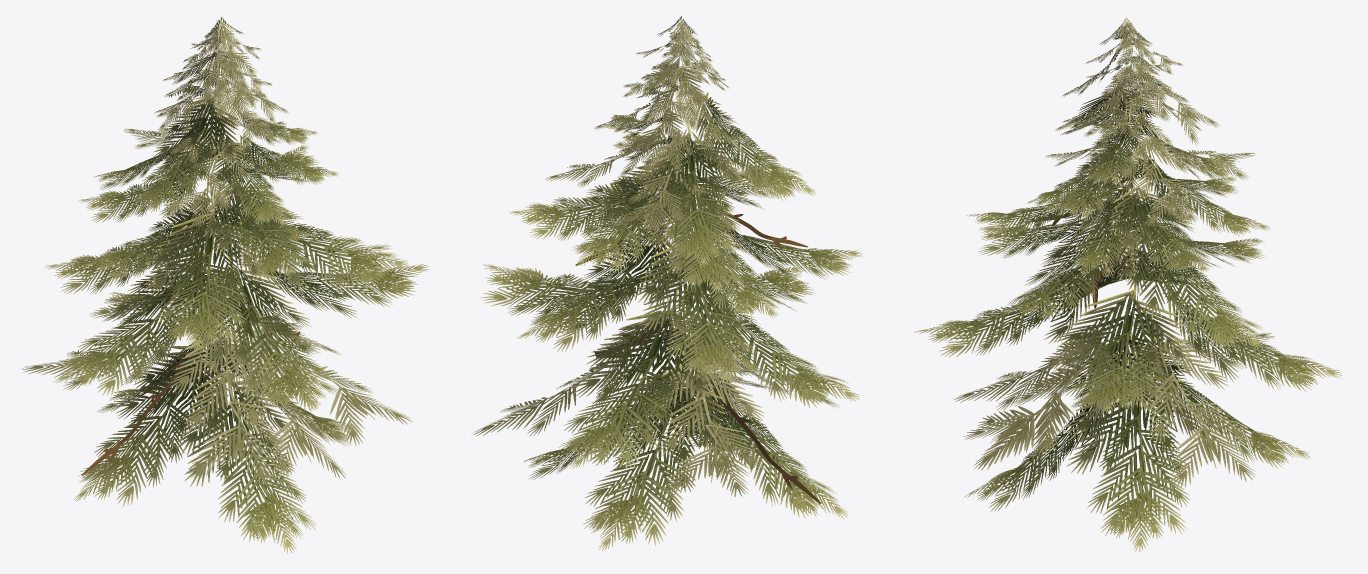
Rendered from Tree_Leaves.fbx.
3 renders of one model, left to right at view 1: azimuth 30°, elevation 25°; view 2: azimuth 150°, elevation 25°; view 3: azimuth 270°, elevation 25°, orthographic. The views are drawn at different scales.
Parts seen in each view (by area): view 1: tree_leaves; view 2: tree_leaves; view 3: tree_leaves.
Boxes of the visible parts, x1,y1,x2,y2 form: tree_leaves: [22, 16, 429, 553]; tree_leaves: [473, 16, 862, 550]; tree_leaves: [914, 17, 1342, 552].
Size of the model in its own units: 48.59 by 58.14 by 48.53.
